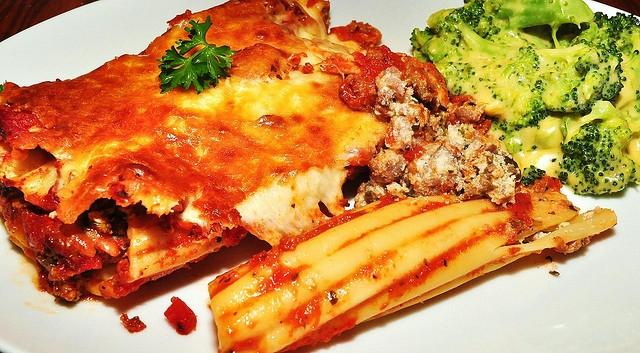broccoli: (458, 0, 594, 49), (556, 116, 638, 196), (569, 11, 639, 64), (498, 33, 530, 47), (624, 110, 640, 124)
